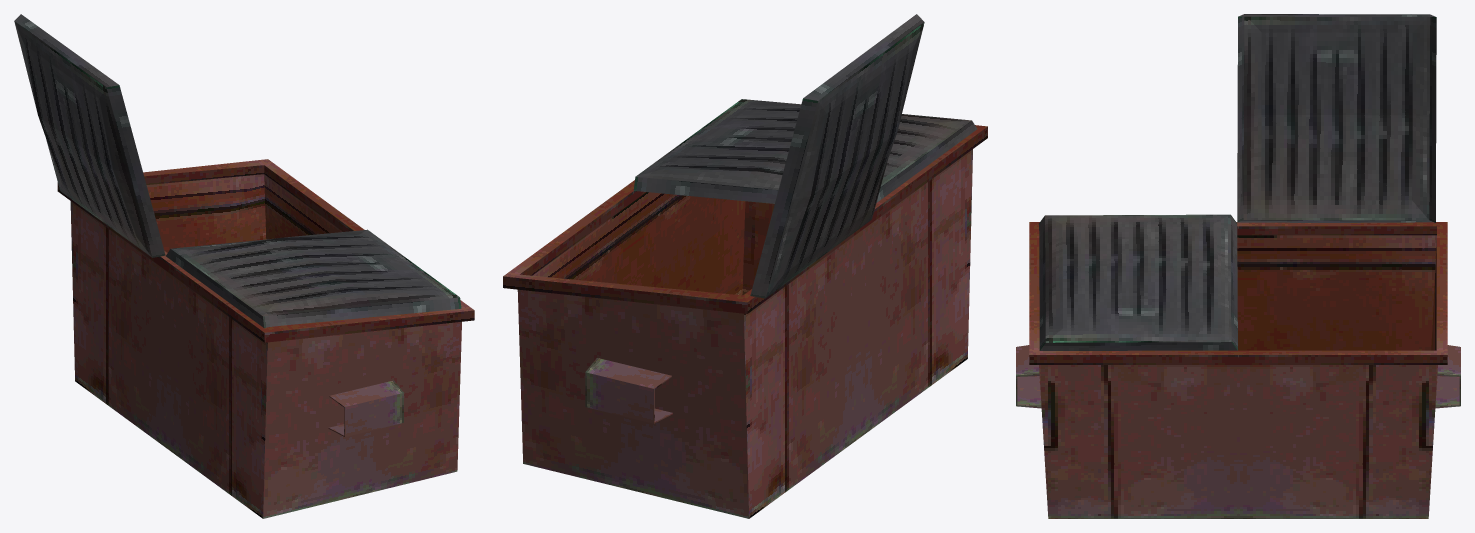
Rendered from dumpster_diagonal_empty_open_red.glb.
The picture shows the model from 3 angles, left to right: view 1: azimuth 30°, elevation 25°; view 2: azimuth 150°, elevation 25°; view 3: azimuth 270°, elevation 25°; orthographic projection. The views are drawn at different scales.
Parts seen in each view (by area): view 1: dumpster_diagonal_empty_open_red; view 2: dumpster_diagonal_empty_open_red; view 3: dumpster_diagonal_empty_open_red.
Boxes of the visible parts, <box> form: dumpster_diagonal_empty_open_red: <box>14,14,474,518</box>; dumpster_diagonal_empty_open_red: <box>503,14,987,518</box>; dumpster_diagonal_empty_open_red: <box>1016,14,1460,518</box>.
Size of the model in its own units: 2.53 by 3.48 by 3.67.
Materials: 1 (1 with a texture image).
